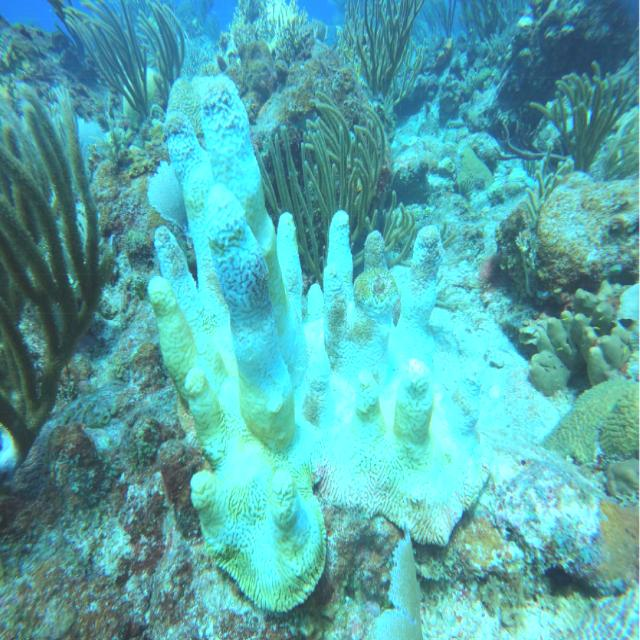Coral: (147, 74, 489, 615), (0, 83, 117, 470), (253, 90, 414, 296), (62, 0, 185, 124), (334, 0, 428, 141), (528, 60, 640, 175), (537, 376, 640, 465), (370, 522, 424, 640)
